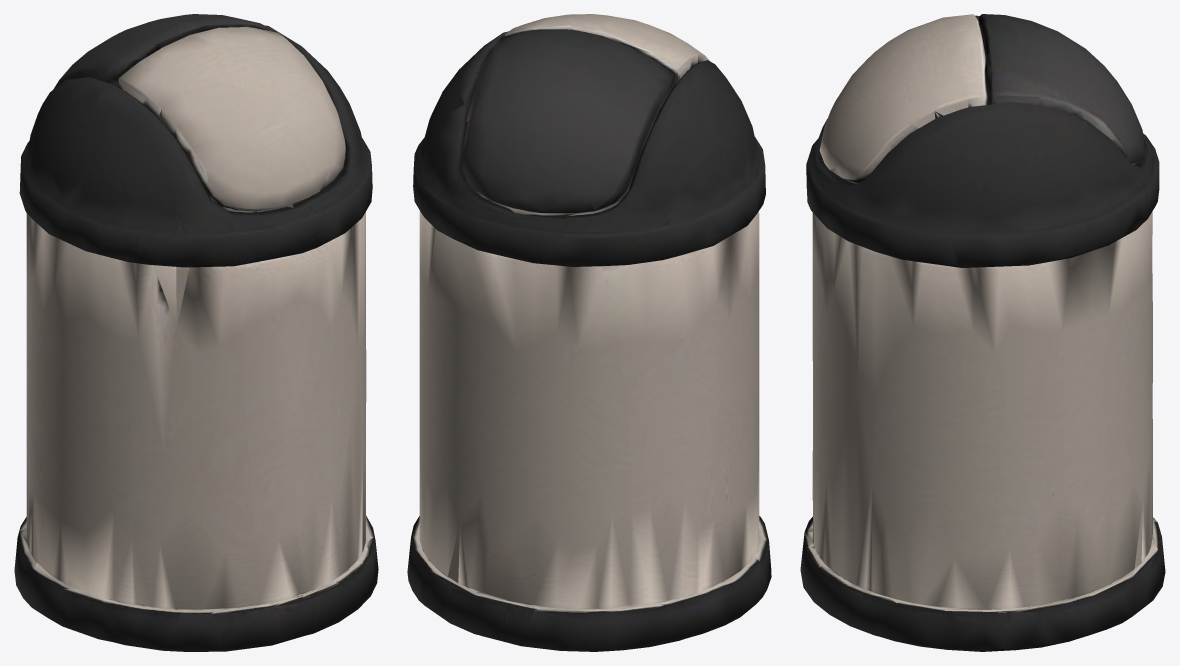
Rendered from shop_trash_bin_a.glb.
3 renders of one model, left to right at view 1: azimuth 30°, elevation 25°; view 2: azimuth 150°, elevation 25°; view 3: azimuth 270°, elevation 25°, orthographic.
Visible parts, largest first — view 1: shop_trash_bin_a; view 2: shop_trash_bin_a; view 3: shop_trash_bin_a.
Boxes of the visible parts, x1,y1,x2,y2 form: shop_trash_bin_a: (14, 14, 378, 651); shop_trash_bin_a: (407, 14, 771, 651); shop_trash_bin_a: (800, 14, 1165, 651).
Size of what is drawn, in the model's own units: 0.4198 by 0.6995 by 0.4215.
Materials: 1 (1 with a texture image).
